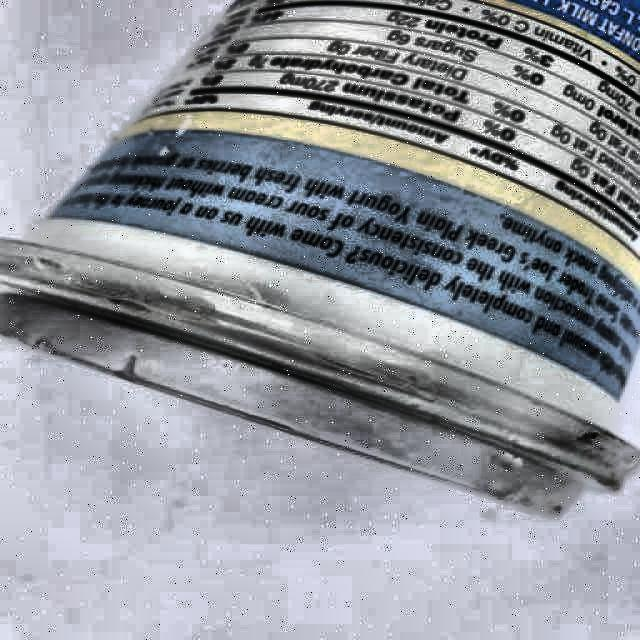plastic: (0, 0, 640, 512)
